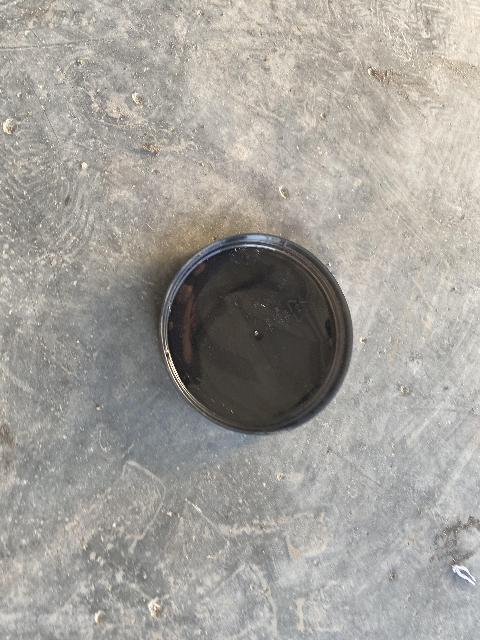Plastik: (159, 230, 357, 432)
